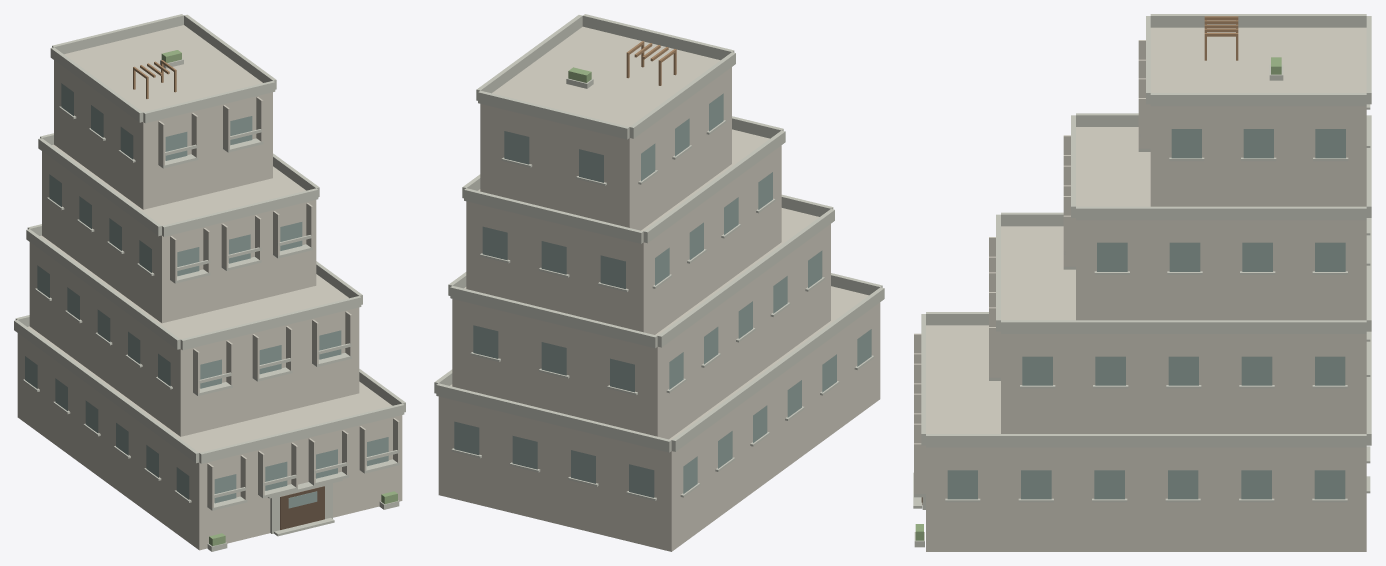
Rendered from residential_2x3_terraces.glb.
3 views of the same model, side by side, from view 1: azimuth 30°, elevation 25°; view 2: azimuth 150°, elevation 25°; view 3: azimuth 270°, elevation 25° (orthographic). The views are drawn at different scales.
Parts seen in each view (by area): view 1: residential_2x3_terraces_0; view 2: residential_2x3_terraces_0; view 3: residential_2x3_terraces_0.
Part boxes in pixels (<box>): residential_2x3_terraces_0: <box>14,14,405,551</box>; residential_2x3_terraces_0: <box>434,14,884,551</box>; residential_2x3_terraces_0: <box>913,14,1371,551</box>.
Size of the model in its own units: 15 by 25.5 by 23.4.
